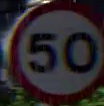Speed limit: (8, 0, 103, 102)
